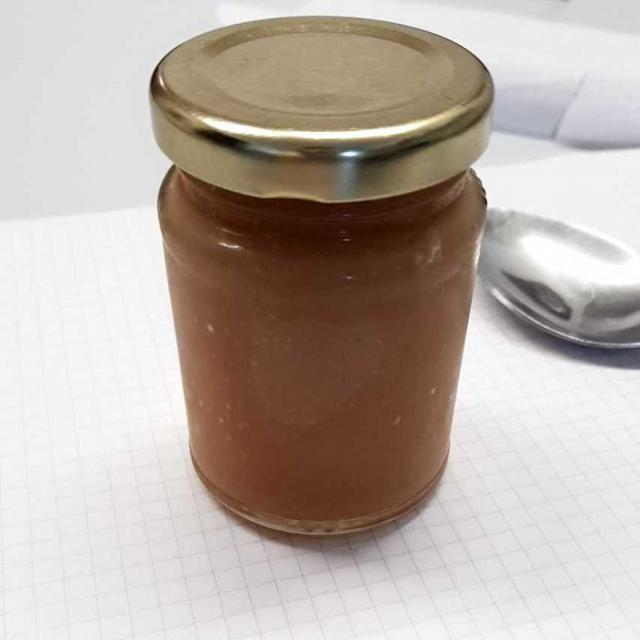applesauce: (169, 155, 479, 528)
